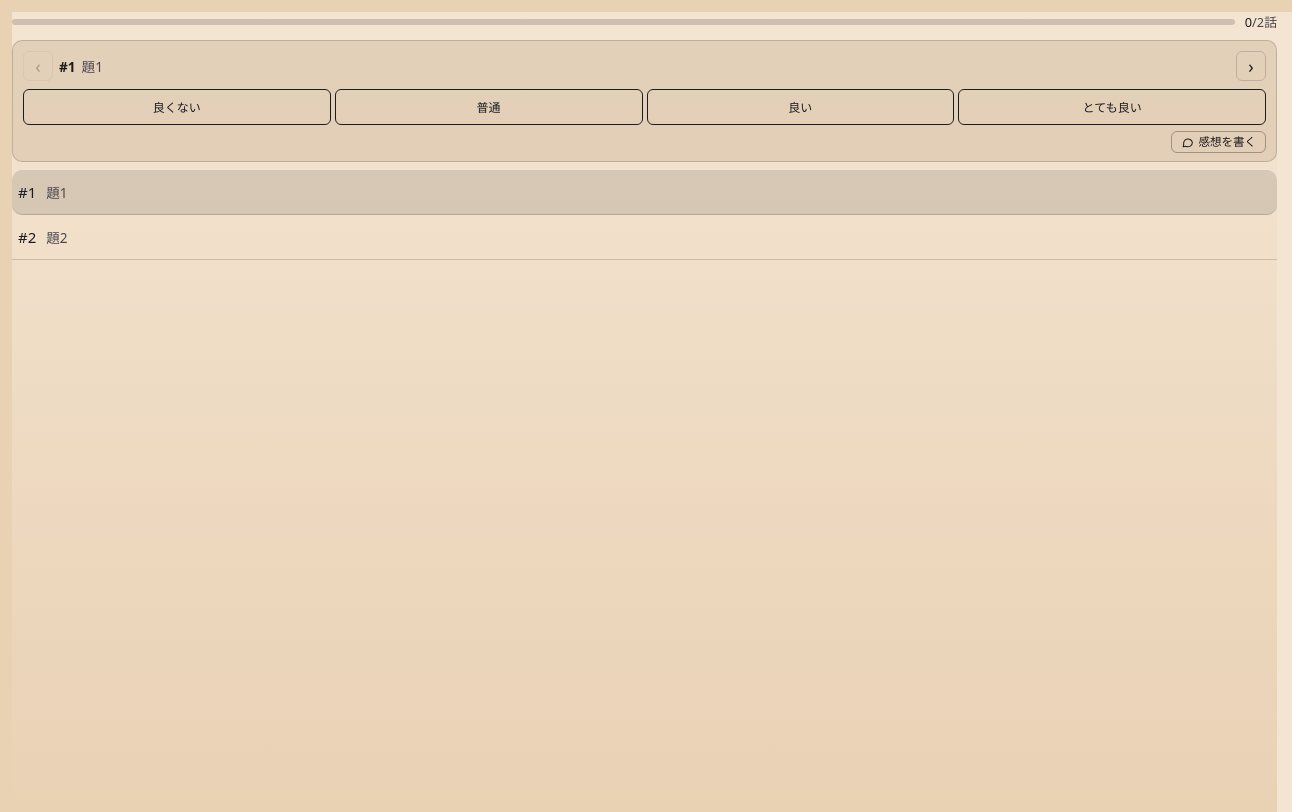
EpisodeRecorder: a comment on an episode, only for those who want to write one › rating stays one tap; "感想を書く" appears after recording and opens a box under the recorder
Click the button "良い".
click(800, 108)  # box [646, 90, 954, 126]
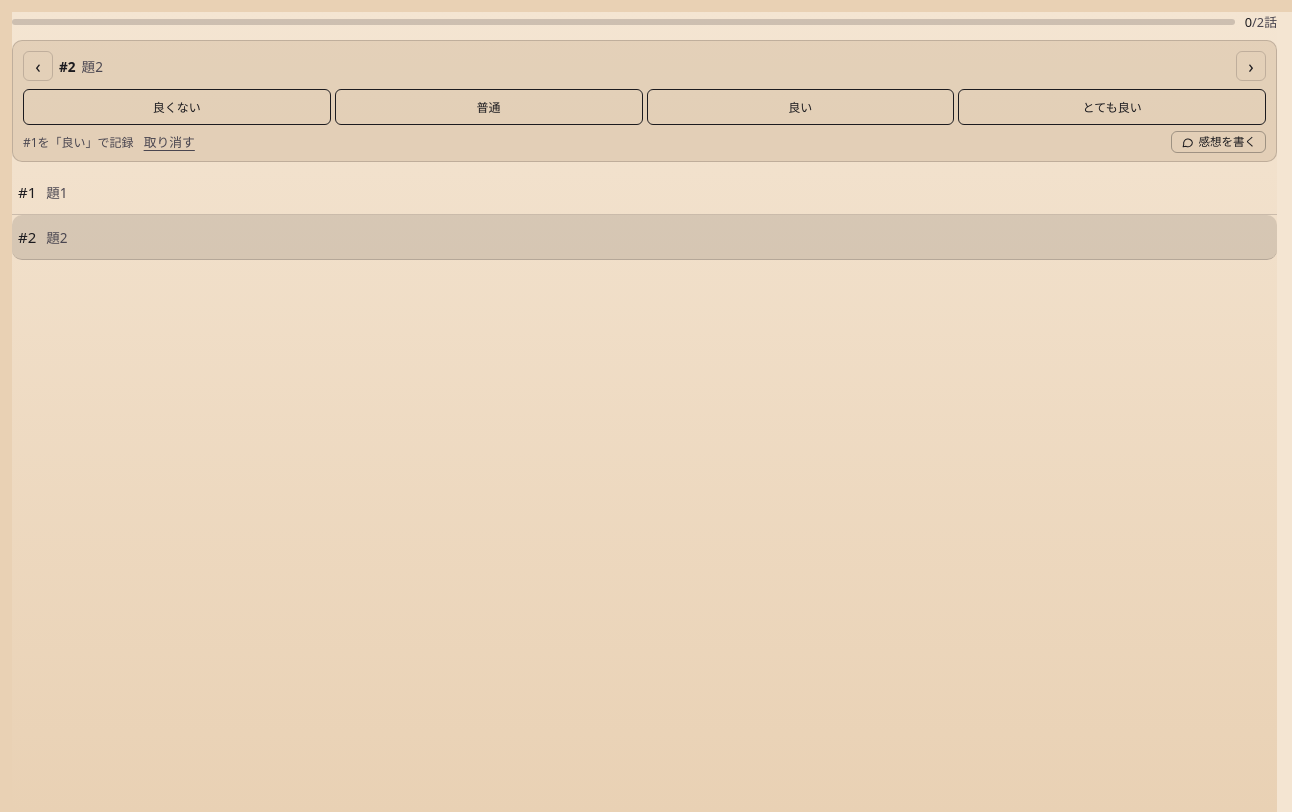
Click the button "感想を書く".
click(1219, 142)  # box [1171, 132, 1266, 154]
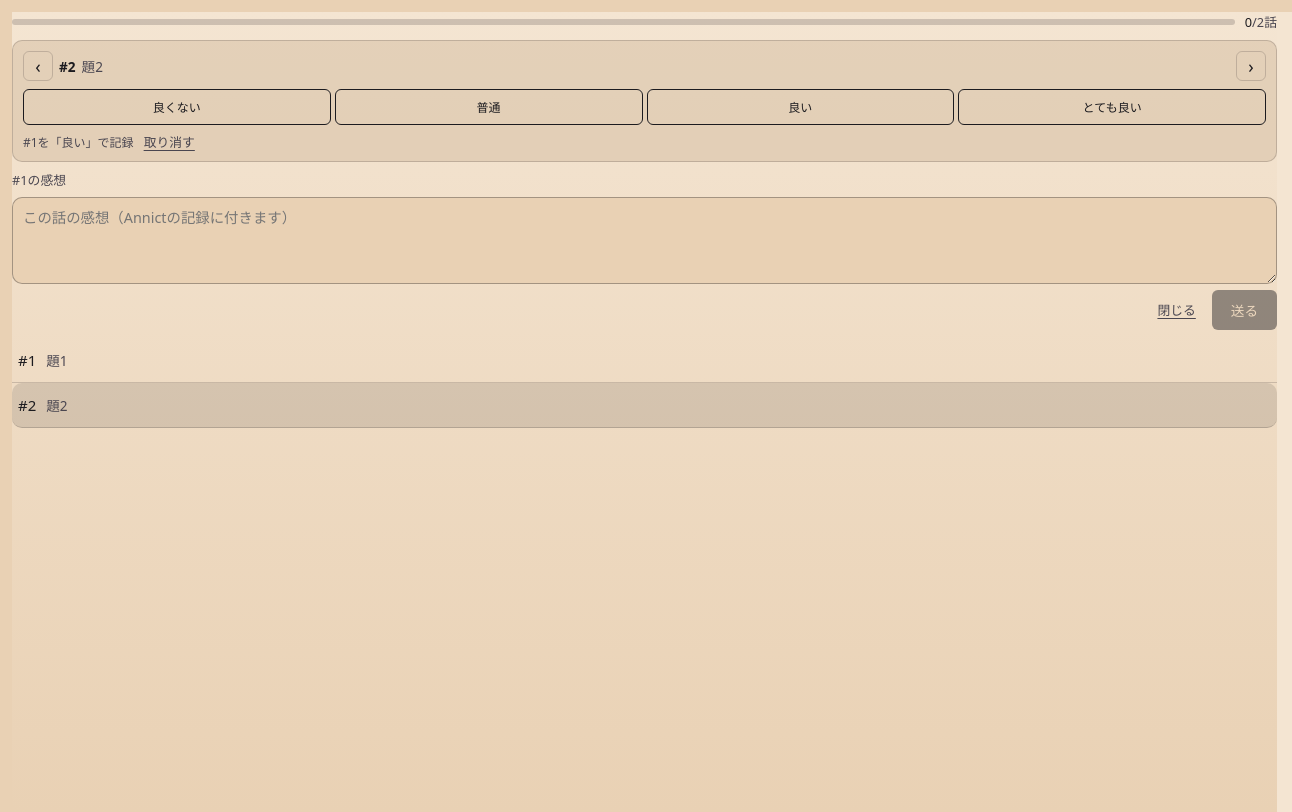
Type "  良い引きだった " into the text box labelled "#1の感想".
click(644, 240); type("  良い引きだった ")  # box [12, 197, 1277, 284]
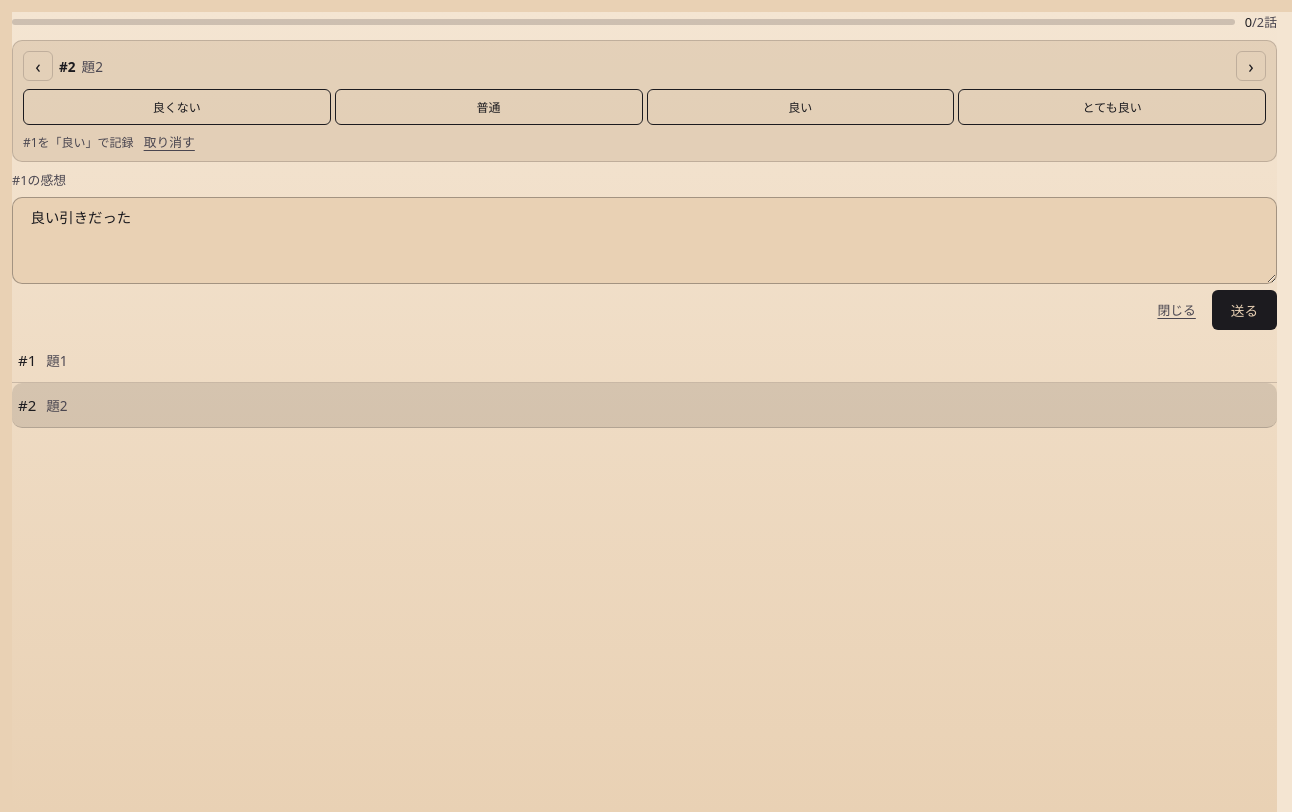
Click the button "送る".
click(1244, 310)  # box [1212, 290, 1277, 330]
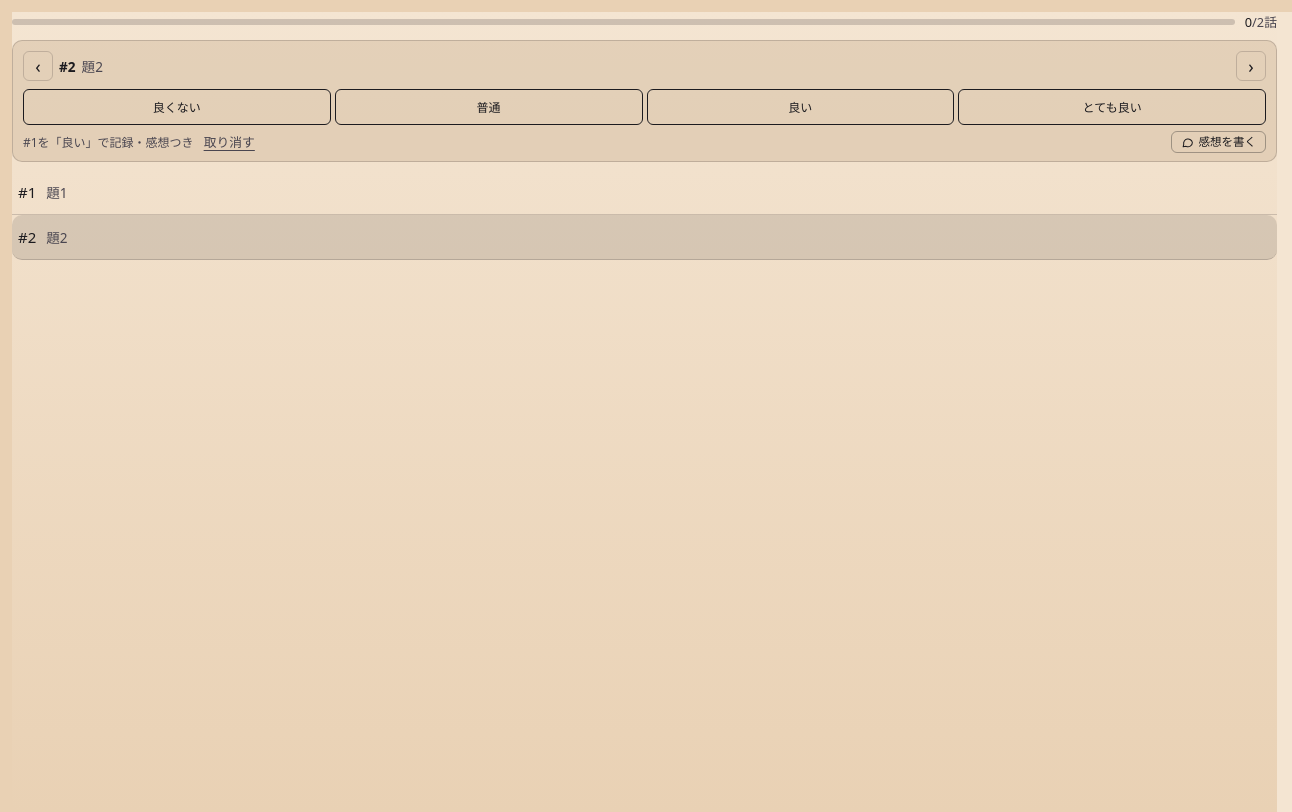
Now the text "#1を「良い」で記録・感想つき 取り消す" is shown, box [23, 132, 255, 151]
